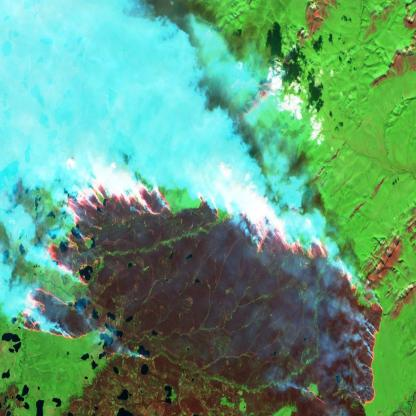fire: (20, 172, 386, 408)
